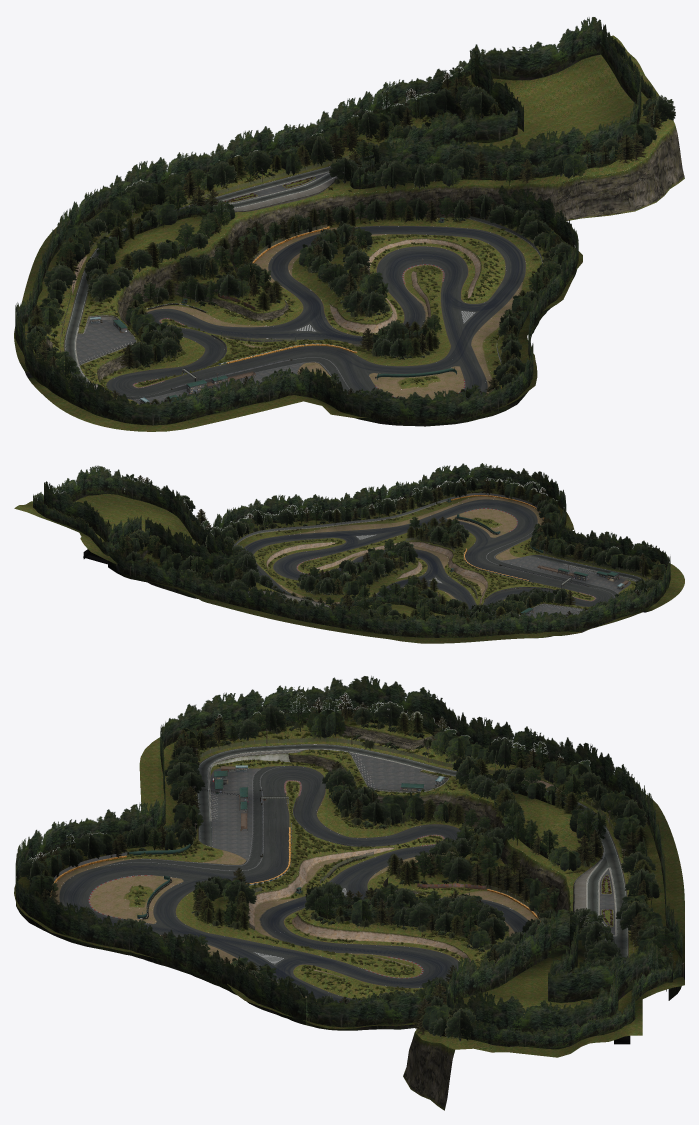
Rendered from track.glb.
The picture shows the model from 3 angles, top to bottom: view 1: azimuth 30°, elevation 25°; view 2: azimuth 150°, elevation 25°; view 3: azimuth 270°, elevation 25°; orthographic projection. The views are drawn at different scales.
Parts seen in each view (by area): view 1: cougarct17_DFF, cougarct09_DFF.grass, cougarct11_DFF, cougarct09_DFF, cougarct10_DFF, cougarct13_DFF.skid, cougarct08_DFF, cougarct11_DFF.sand, cougarct00_DFF, cougarct01_DFF, cougarct13_DFF, cougarct06_DFF (+1 smaller); view 2: cougarct17_DFF, cougarct09_DFF.grass, cougarct10_DFF, cougarct13_DFF.skid, cougarct11_DFF.sand, cougarct08_DFF, cougarct11_DFF, cougarct09_DFF, cougarct14_DFF, cougarct12_DFF, cougarct00_DFF, cougarct06_DFF (+1 smaller); view 3: cougarct17_DFF, cougarct09_DFF.grass, cougarct10_DFF, cougarct09_DFF, cougarct13_DFF.skid, cougarct11_DFF, cougarct08_DFF, cougarct11_DFF.sand, cougarct00_DFF, cougarct14_DFF, cougarct13_DFF, cougarct01_DFF.
Boxes of the visible parts, x1,y1,x2,y2 form: cougarct17_DFF: (15,17,675,426); cougarct09_DFF.grass: (14,35,674,431); cougarct11_DFF: (251,87,684,302); cougarct09_DFF: (14,187,338,366); cougarct10_DFF: (25,311,488,405); cougarct13_DFF.skid: (112,226,522,392); cougarct08_DFF: (388,264,526,383); cougarct11_DFF.sand: (144,226,523,399); cougarct00_DFF: (218,318,456,379); cougarct01_DFF: (89,238,289,340); cougarct13_DFF: (60,182,288,362); cougarct06_DFF: (171,358,292,393); cougarct17_DFF: (33,463,670,638); cougarct09_DFF.grass: (14,481,684,643); cougarct10_DFF: (406,499,647,612); cougarct13_DFF.skid: (245,502,609,608); cougarct11_DFF.sand: (279,496,543,614); cougarct08_DFF: (269,503,463,562); cougarct11_DFF: (83,537,356,604); cougarct09_DFF: (305,572,588,632); cougarct14_DFF: (414,492,649,592); cougarct12_DFF: (257,493,473,540); cougarct00_DFF: (414,495,544,592); cougarct06_DFF: (499,564,588,588); cougarct17_DFF: (15,676,682,1049); cougarct09_DFF.grass: (14,710,684,1057); cougarct10_DFF: (58,710,351,932); cougarct09_DFF: (351,726,627,925); cougarct13_DFF.skid: (64,769,525,1002); cougarct11_DFF: (351,896,630,1110); cougarct08_DFF: (99,924,351,1003); cougarct11_DFF.sand: (49,839,544,998); cougarct00_DFF: (50,823,351,919); cougarct14_DFF: (50,737,351,898); cougarct13_DFF: (351,740,629,914); cougarct01_DFF: (351,776,543,923).
Size of the model in its own units: 676 by 115 by 480.
99 materials, 98 textured.
